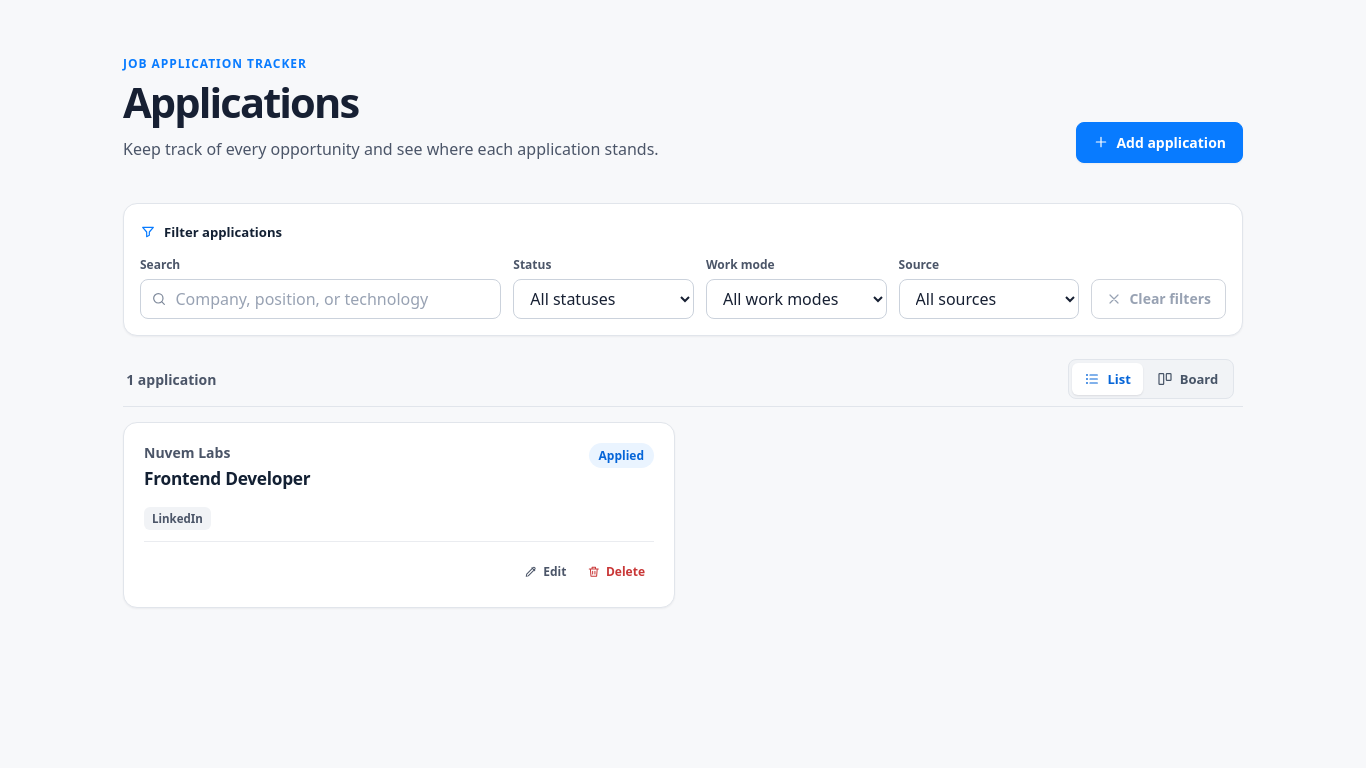
Test: ApplicationsPage feedback › deletes only after confirmation and shows success feedback
The width and height of the screenshot is (1366, 768).
What coordinates should you click on to do the following:
click the button "Delete"
I would click on:
 (616, 572)
Its box is [578,556,654,587].
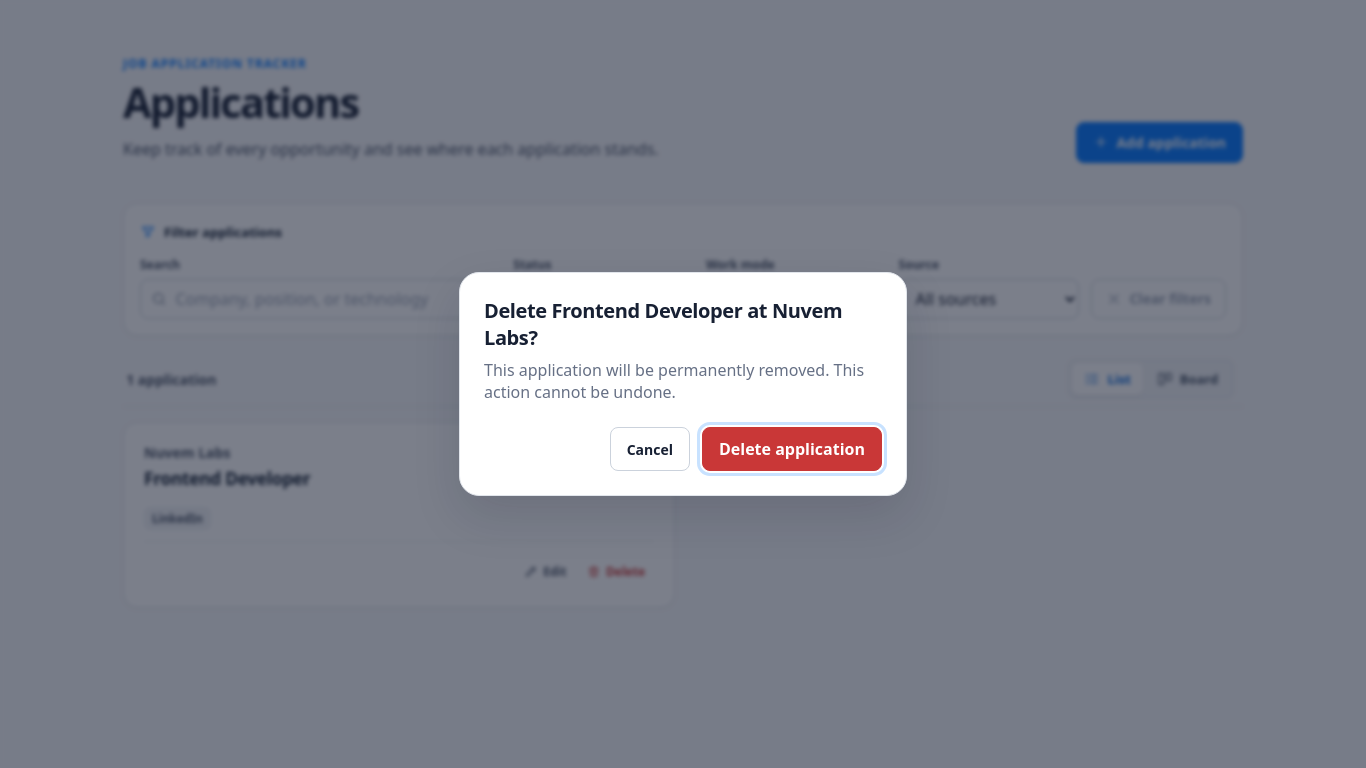
What coordinates should you click on to do the following:
click the button "Delete application"
I would click on:
 (792, 449)
Its box is [702,427,882,471].
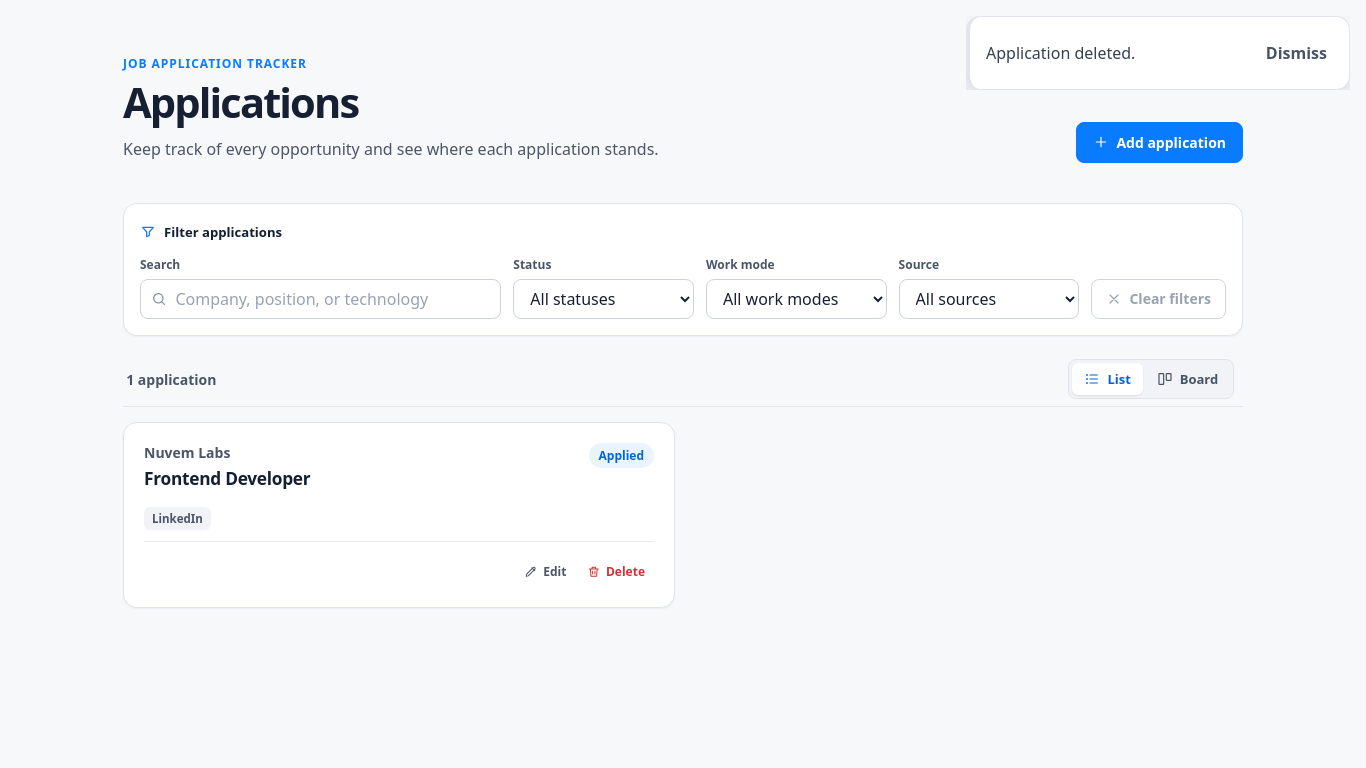
Result: the message shows "Application deleted." at [986,42,1135,64]
Result: the dialog is gone
